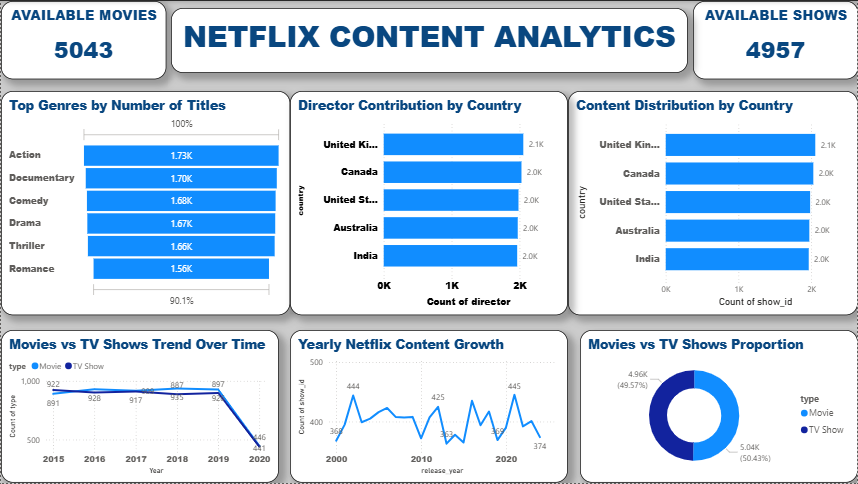

What the dashboard file says about the page in this screenshot:
{"tool":"powerbi","page":{"name":"Page 1","canvas":[1280,720],"ordinal":0},"visuals":[{"type":"actionButton","box":[0,0,100,40],"z":0},{"type":"donutChart","title":"Movies vs TV Shows Proportion","fields":{"Y":["CountNonNull(Netflix_Data.show_id)"],"Category":["Netflix_Data.type"]},"box":[865,491.7,415,228.3],"z":1000},{"type":"card","title":"AVAILABLE MOVIES","fields":{"Values":["CountNonNull(Netflix_Data.type)"]},"box":[0,0,246.7,116.7],"z":2000},{"type":"card","title":"AVAILABLE SHOWS","fields":{"Values":["CountNonNull(Netflix_Data.type)"]},"box":[1033.3,0,246.7,116.7],"z":3000},{"type":"barChart","title":"Content Distribution by Country","fields":{"Category":["Netflix_Data.country"],"Y":["CountNonNull(Netflix_Data.show_id)"]},"box":[846.7,135,433.3,335],"z":4000},{"type":"lineChart","title":"Yearly Netflix Content Growth","fields":{"Category":["Netflix_Data.release_year"],"Y":["CountNonNull(Netflix_Data.show_id)"]},"box":[431.7,491.7,415,228.3],"z":5000},{"type":"funnel","title":"Top Genres by Number of Titles","fields":{"Category":["Netflix_Data.listed_in"],"Y":["CountNonNull(Netflix_Data.show_id)"]},"box":[0,135,431.7,335],"z":6000},{"type":"lineChart","title":"Movies vs TV Shows Trend Over Time","fields":{"Category":["Netflix_Data.date_added.Variation.Date Hierarchy.Year","Netflix_Data.date_added.Variation.Date Hierarchy.Quarter","Netflix_Data.date_added.Variation.Date Hierarchy.Month","Netflix_Data.date_added.Variation.Date Hierarchy.Day"],"Series":["Netflix_Data.type"],"Y":["CountNonNull(Netflix_Data.type)"]},"box":[0,491.7,415,228.3],"z":7000},{"type":"textbox","box":[253.3,10,771.7,96.7],"z":8000},{"type":"barChart","title":"Director Contribution by Country","fields":{"Category":["Netflix_Data.country"],"Y":["CountNonNull(Netflix_Data.director)"]},"box":[431.7,135,415,335],"z":9000}]}

Visuals, with their boxes in screenshot pixels (x1, y1, x2, y2), scaled from the page's 1280x720 canvas onto the 858x484 screenshot:
actionButton: (0,0,67,27)
"Movies vs TV Shows Proportion" donutChart: (580,331,857,483)
"AVAILABLE MOVIES" card: (0,0,165,78)
"AVAILABLE SHOWS" card: (693,0,857,78)
"Content Distribution by Country" barChart: (568,91,857,316)
"Yearly Netflix Content Growth" lineChart: (289,331,568,483)
"Top Genres by Number of Titles" funnel: (0,91,289,316)
"Movies vs TV Shows Trend Over Time" lineChart: (0,331,278,483)
textbox: (170,7,687,72)
"Director Contribution by Country" barChart: (289,91,568,316)
